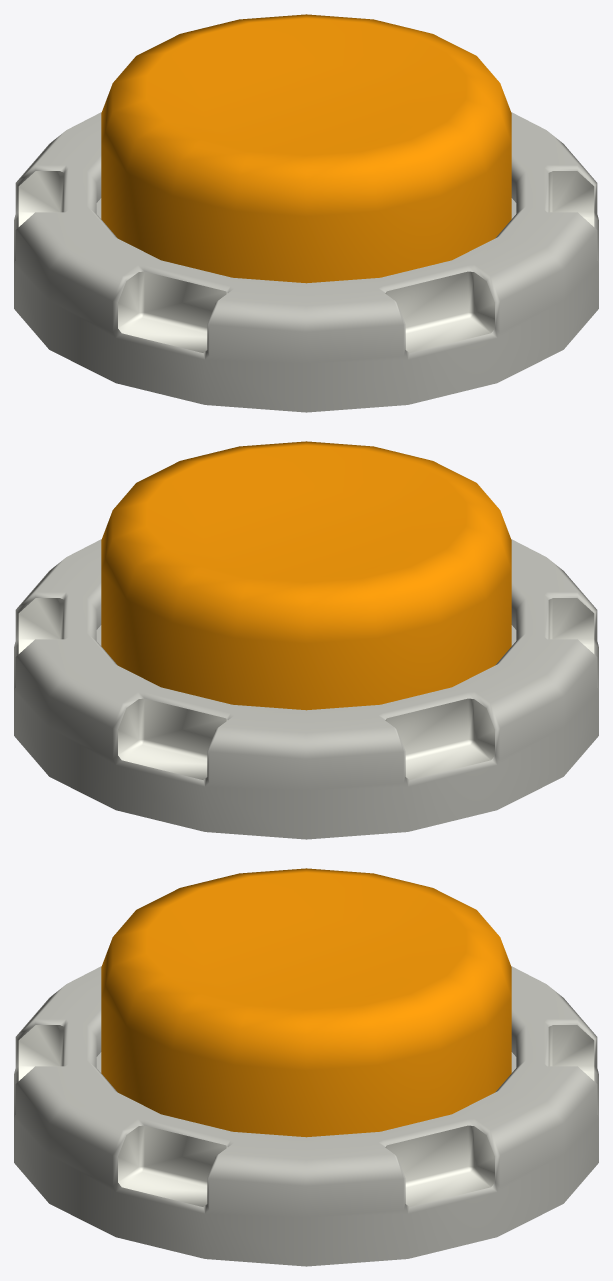
3 views of the same model, one above another, from view 1: azimuth 30°, elevation 25°; view 2: azimuth 150°, elevation 25°; view 3: azimuth 270°, elevation 25° (orthographic).
Visible parts, largest first — view 1: kitbash_016, kitbash_016.001, kitbash_016.002; view 2: kitbash_016, kitbash_016.001, kitbash_016.002; view 3: kitbash_016, kitbash_016.001, kitbash_016.002.
Part boxes in pixels (bbox=[...]): kitbash_016: bbox=[101, 14, 511, 283]; kitbash_016.001: bbox=[14, 112, 598, 412]; kitbash_016.002: bbox=[18, 171, 594, 352]; kitbash_016: bbox=[101, 441, 511, 710]; kitbash_016.001: bbox=[14, 539, 598, 839]; kitbash_016.002: bbox=[18, 598, 594, 779]; kitbash_016: bbox=[101, 868, 511, 1137]; kitbash_016.001: bbox=[14, 966, 598, 1266]; kitbash_016.002: bbox=[18, 1025, 594, 1206].
Size of the model in its own units: 3.85 by 1.45 by 3.91.
